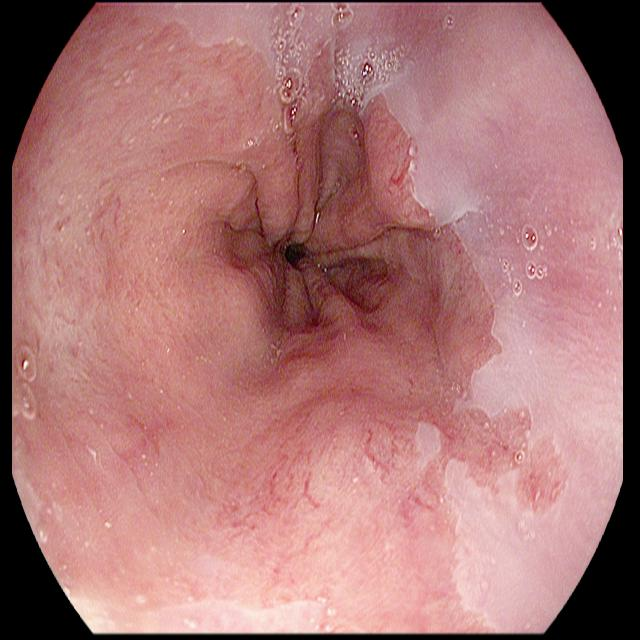esophagitis: (11, 0, 570, 634)
